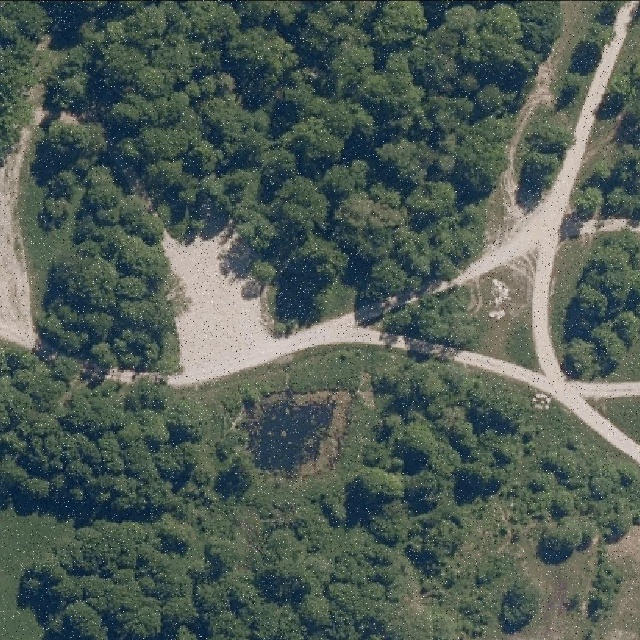vegetation: (0, 344, 640, 640), (30, 120, 175, 366), (561, 234, 640, 378), (571, 63, 640, 219), (363, 286, 479, 349), (557, 2, 623, 109), (515, 111, 575, 208)
